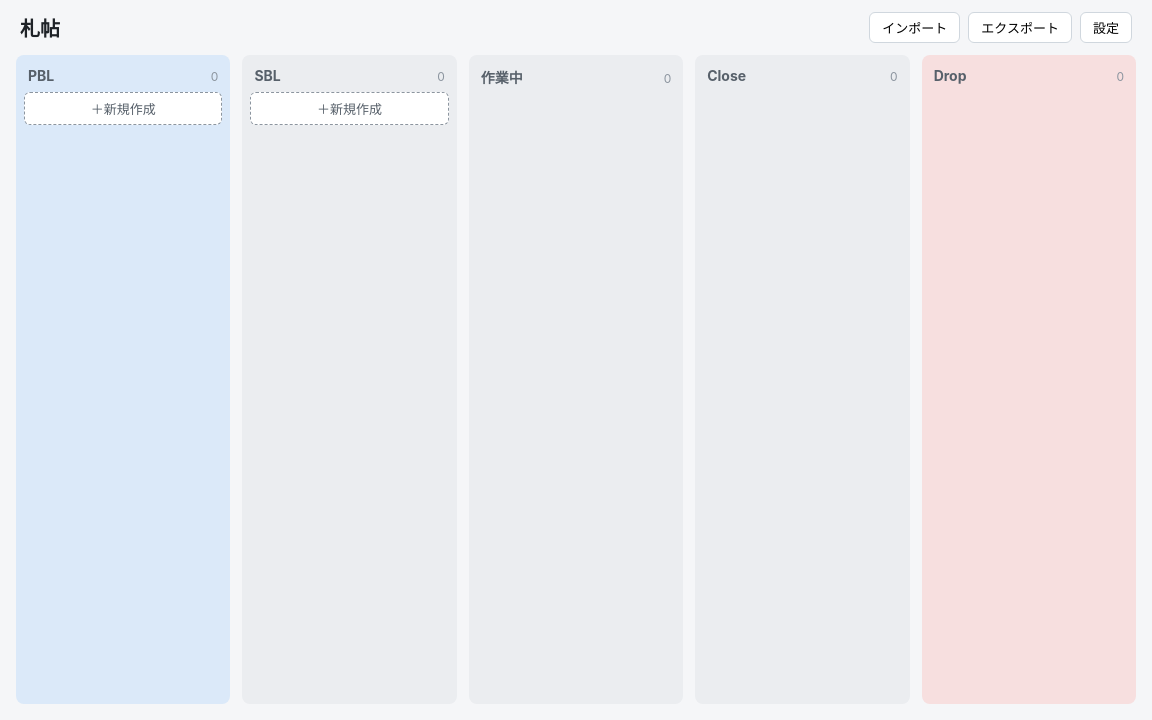
Test: App › 不正なマークダウンのインポートはエラーを表示する
Step 1. Click the button "インポート" → click(915, 28), box x1=869 y1=12 x2=960 y2=43
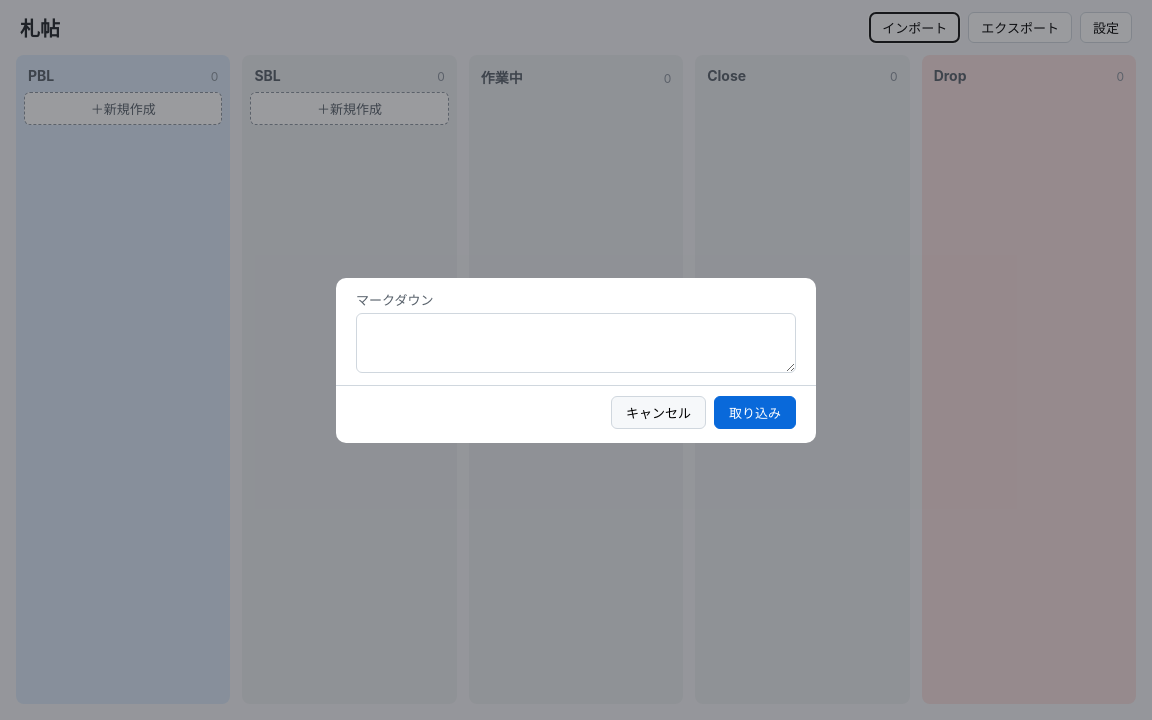
Step 2. Click the text box labelled "マークダウン" → click(576, 342), box x1=356 y1=312 x2=796 y2=372
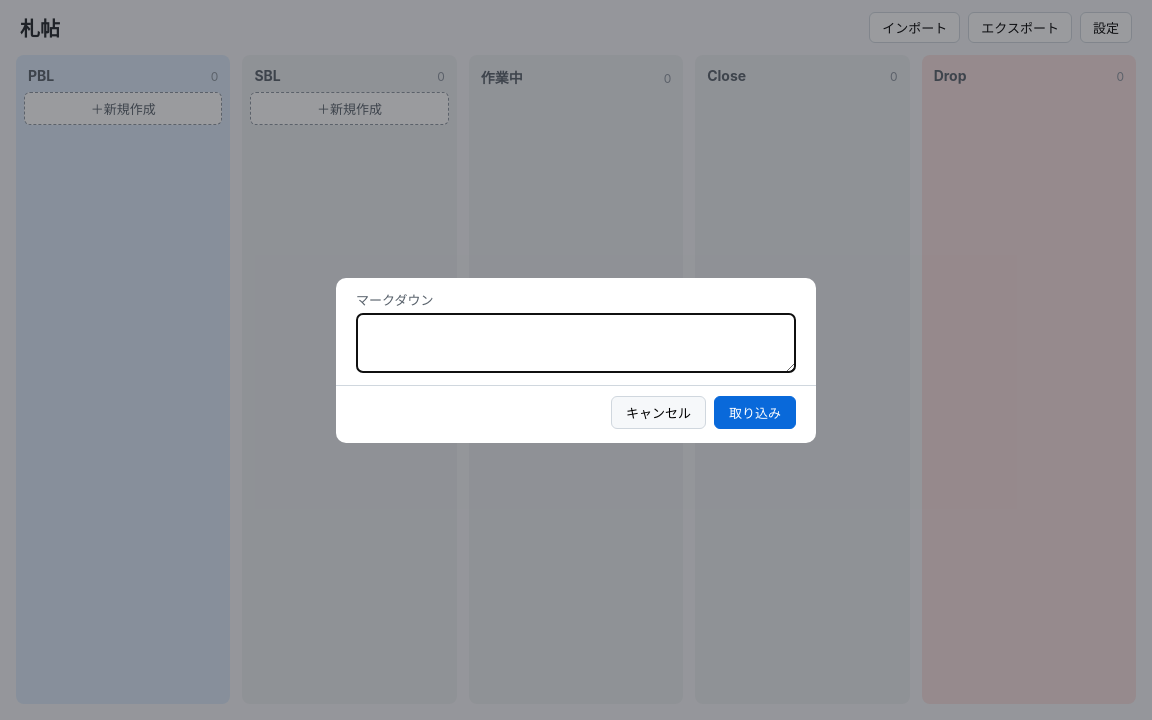
Step 3. Type keys "見出しのない不正な内容"
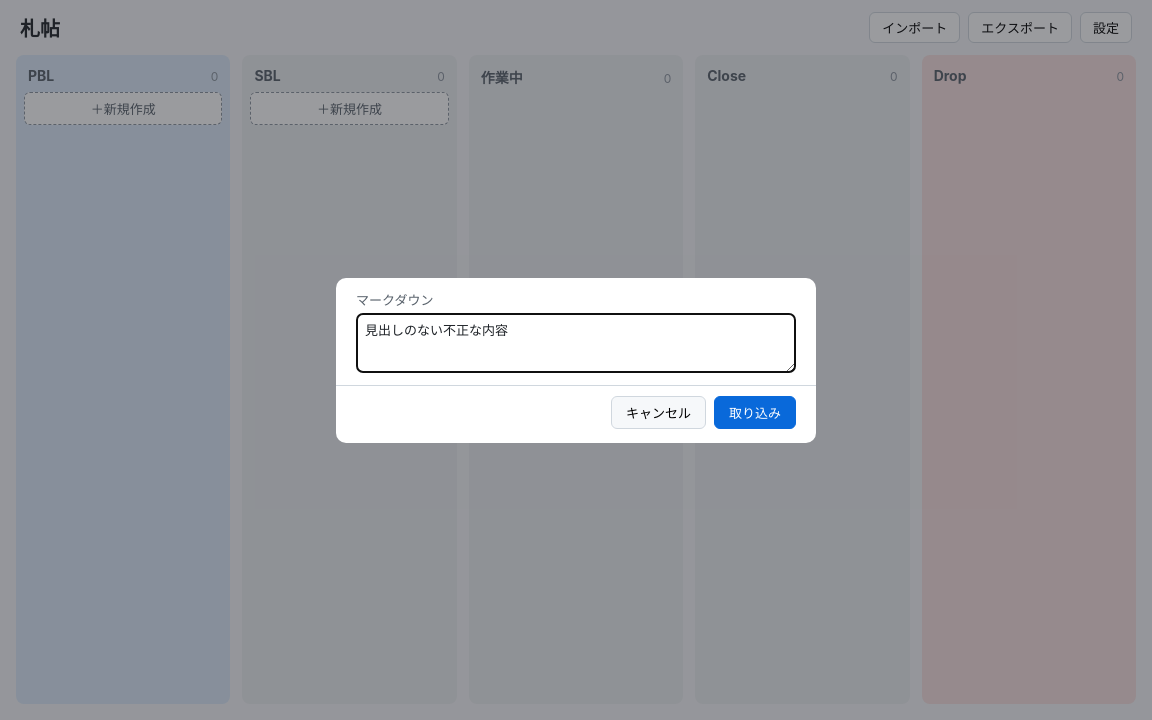
Step 4. Click the button "取り込み" → click(755, 412), box x1=714 y1=396 x2=796 y2=428
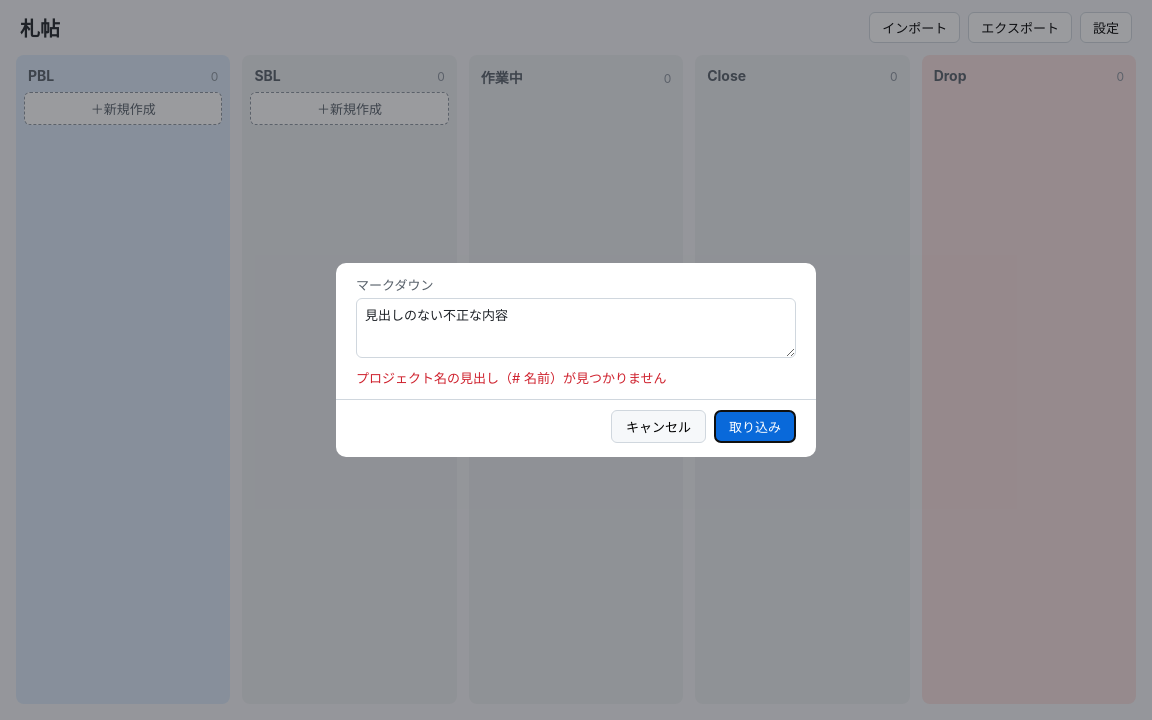
Expected: the text "プロジェクト名の見出し（# 名前）が見つかりません" is shown, x1=356 y1=370 x2=666 y2=386
